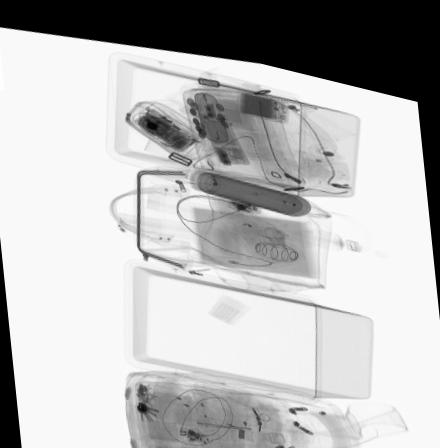Powerbank: (236, 77, 289, 109)
